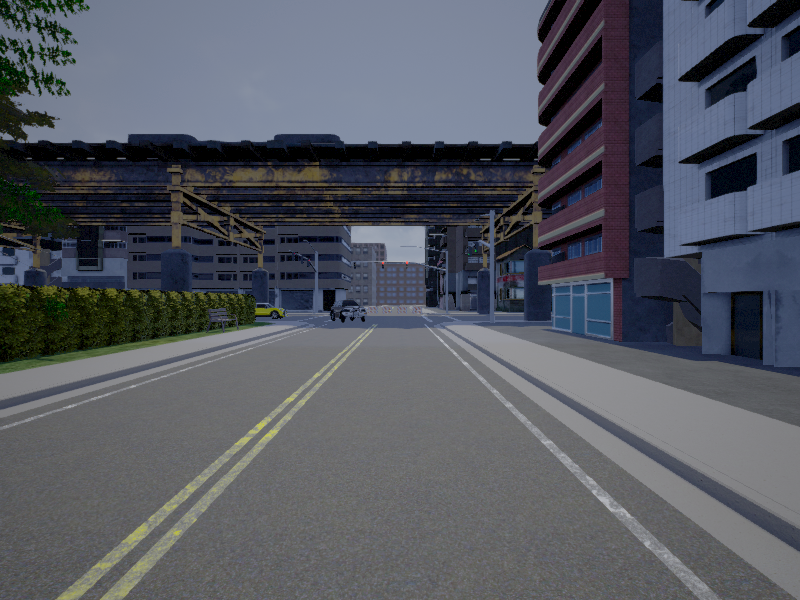Benign: (329, 301, 366, 321), (253, 303, 286, 319)
